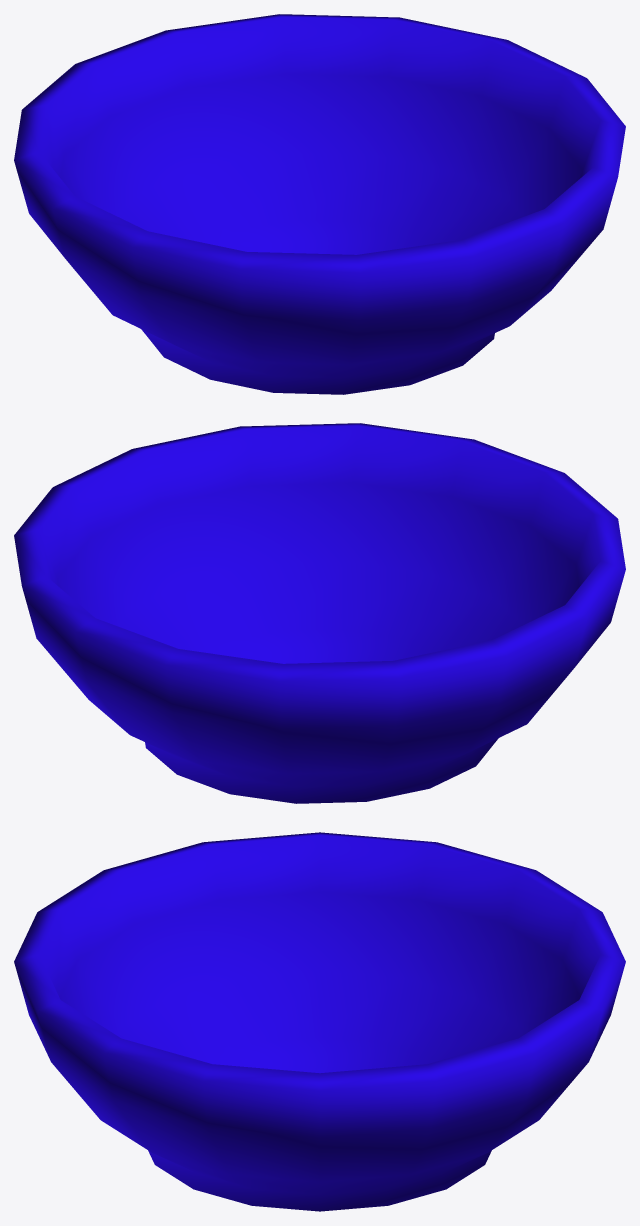
Rendered from bowl outline test.fbx.
3 views of the same model, one above another, from view 1: azimuth 30°, elevation 25°; view 2: azimuth 150°, elevation 25°; view 3: azimuth 270°, elevation 25° (orthographic).
Visible parts, largest first — view 1: Circle.007; view 2: Circle.007; view 3: Circle.007.
Boxes of the visible parts, x1,y1,x2,y2 form: Circle.007: (14, 14, 625, 394); Circle.007: (14, 423, 625, 803); Circle.007: (14, 832, 625, 1211).
Bounding box in the file's own units: 128 × 42.34 × 128.
